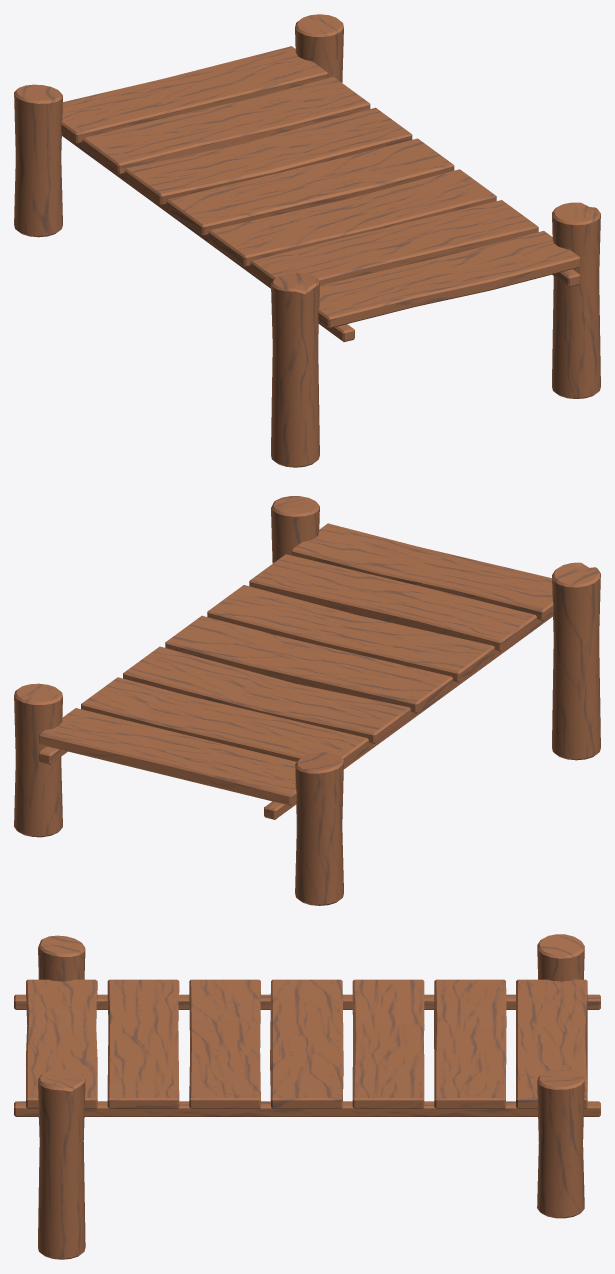
Rendered from dock_low.fbx.
3 renders of one model, top to bottom at view 1: azimuth 30°, elevation 25°; view 2: azimuth 150°, elevation 25°; view 3: azimuth 270°, elevation 25°, orthographic. The views are drawn at different scales.
Visible parts, largest first — view 1: dock_lod0; view 2: dock_lod0; view 3: dock_lod0.
Boxes of the visible parts, <box> form: dock_lod0: <box>14,14,600,467</box>; dock_lod0: <box>14,496,600,905</box>; dock_lod0: <box>14,934,600,1259</box>.
Bounding box in the file's own units: 820 × 434 × 1327.
